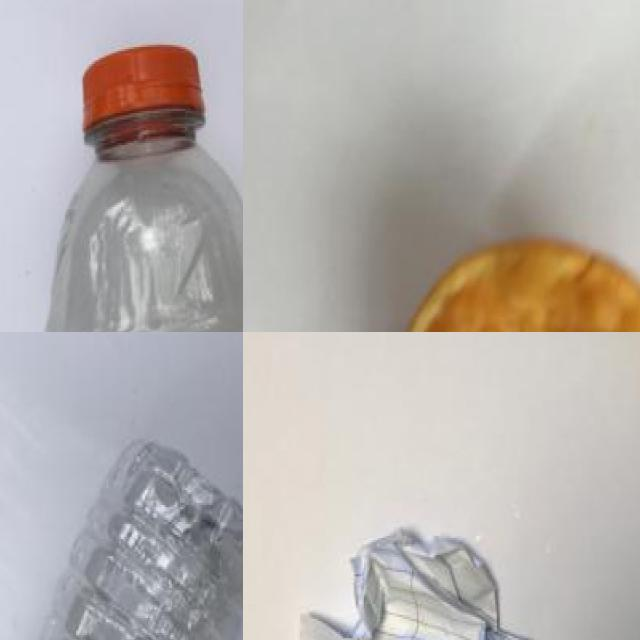compost: (381, 205, 640, 332)
paper: (281, 522, 556, 640)
plastic: (41, 30, 243, 332), (0, 428, 243, 640)
